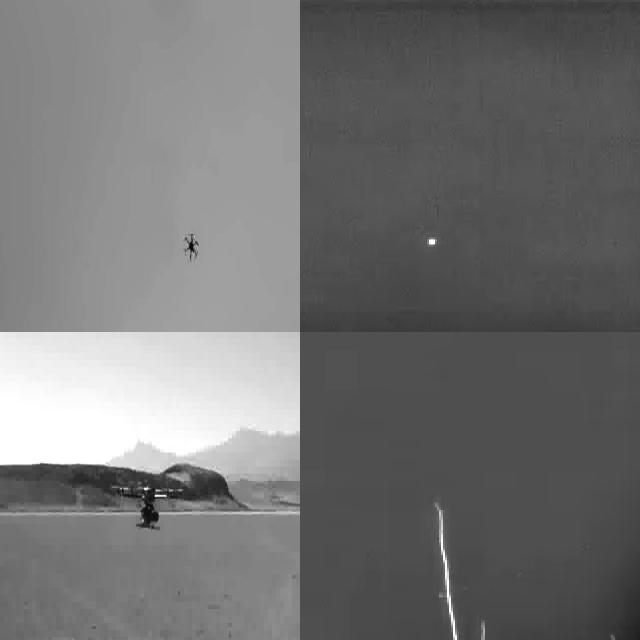0: (431, 589, 449, 606)
1: (416, 232, 440, 257)
drone: (112, 486, 181, 530), (181, 228, 204, 267)
